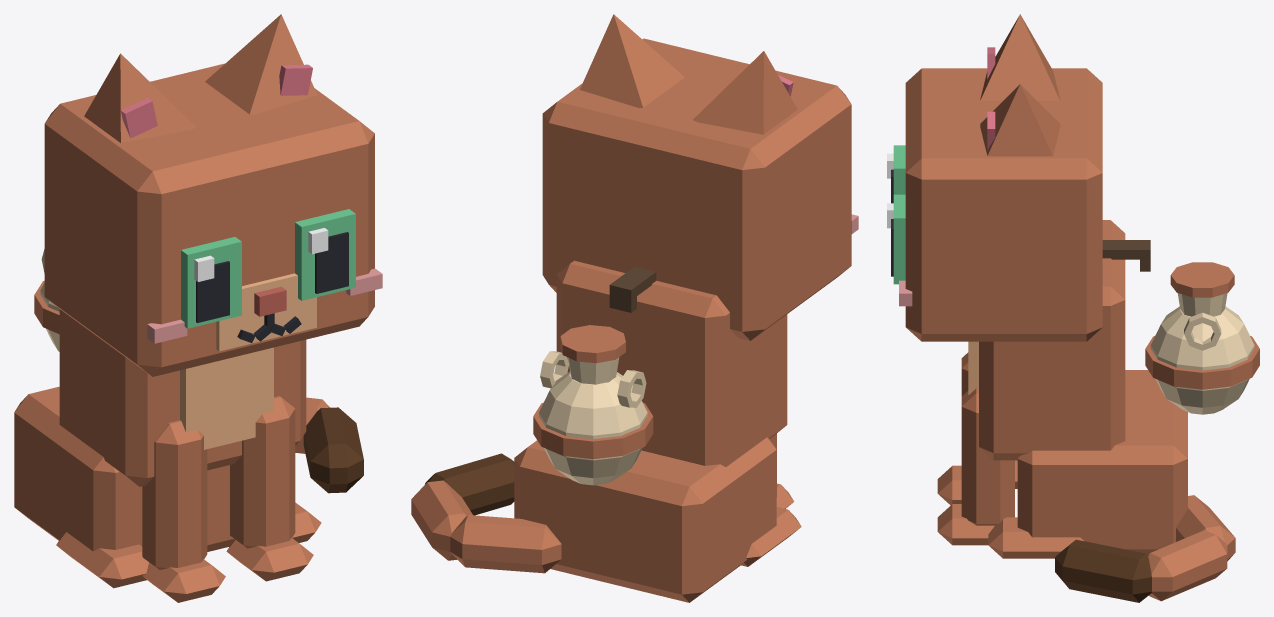
File: CatCafe_Cat_Clay_Sit.glb
3 views of the same model, side by side, from view 1: azimuth 30°, elevation 25°; view 2: azimuth 150°, elevation 25°; view 3: azimuth 270°, elevation 25° (orthographic). The views are drawn at different scales.
Visible parts, largest first — view 1: CatCafe_Cat_Clay_Sit_Head, CatCafe_Cat_Clay_Sit_Body, CatCafe_Cat_Clay_Sit_LegF2, CatCafe_Cat_Clay_Sit_LegF1, CatCafe_Cat_Clay_Sit_EarL, CatCafe_Cat_Clay_Sit_EarR, CatCafe_Cat_Clay_Sit_Eye2, CatCafe_Cat_Clay_Sit_Eye1, CatCafe_Cat_Clay_Sit_Tail, CatCafe_Cat_Clay_Sit_Prop; view 2: CatCafe_Cat_Clay_Sit_Head, CatCafe_Cat_Clay_Sit_Body, CatCafe_Cat_Clay_Sit_Prop, CatCafe_Cat_Clay_Sit_Tail, CatCafe_Cat_Clay_Sit_EarL, CatCafe_Cat_Clay_Sit_EarR; view 3: CatCafe_Cat_Clay_Sit_Head, CatCafe_Cat_Clay_Sit_Body, CatCafe_Cat_Clay_Sit_Prop, CatCafe_Cat_Clay_Sit_Tail, CatCafe_Cat_Clay_Sit_LegF1, CatCafe_Cat_Clay_Sit_EarL, CatCafe_Cat_Clay_Sit_EarR, CatCafe_Cat_Clay_Sit_Eye1, CatCafe_Cat_Clay_Sit_LegF2, CatCafe_Cat_Clay_Sit_Eye2.
Boxes of the visible parts, left/top/right/bottom form: CatCafe_Cat_Clay_Sit_Head: left=44, top=63, right=382, bottom=376; CatCafe_Cat_Clay_Sit_Body: left=14, top=309, right=321, bottom=588; CatCafe_Cat_Clay_Sit_LegF2: left=142, top=420, right=225, bottom=602; CatCafe_Cat_Clay_Sit_LegF1: left=226, top=396, right=313, bottom=581; CatCafe_Cat_Clay_Sit_EarL: left=205, top=14, right=317, bottom=114; CatCafe_Cat_Clay_Sit_EarR: left=84, top=53, right=196, bottom=142; CatCafe_Cat_Clay_Sit_Eye2: left=181, top=237, right=241, bottom=328; CatCafe_Cat_Clay_Sit_Eye1: left=295, top=209, right=355, bottom=300; CatCafe_Cat_Clay_Sit_Tail: left=295, top=397, right=363, bottom=493; CatCafe_Cat_Clay_Sit_Prop: left=34, top=249, right=59, bottom=351; CatCafe_Cat_Clay_Sit_Head: left=542, top=38, right=858, bottom=340; CatCafe_Cat_Clay_Sit_Body: left=514, top=260, right=801, bottom=602; CatCafe_Cat_Clay_Sit_Prop: left=533, top=266, right=656, bottom=485; CatCafe_Cat_Clay_Sit_Tail: left=411, top=453, right=561, bottom=573; CatCafe_Cat_Clay_Sit_EarL: left=580, top=14, right=684, bottom=107; CatCafe_Cat_Clay_Sit_EarR: left=693, top=51, right=797, bottom=134; CatCafe_Cat_Clay_Sit_Head: left=899, top=68, right=1102, bottom=341; CatCafe_Cat_Clay_Sit_Body: left=968, top=220, right=1187, bottom=558; CatCafe_Cat_Clay_Sit_Prop: left=1102, top=240, right=1259, bottom=414; CatCafe_Cat_Clay_Sit_Tail: left=1055, top=495, right=1235, bottom=602; CatCafe_Cat_Clay_Sit_LegF1: left=937, top=388, right=1014, bottom=545; CatCafe_Cat_Clay_Sit_EarL: left=980, top=84, right=1060, bottom=156; CatCafe_Cat_Clay_Sit_EarR: left=980, top=14, right=1060, bottom=100; CatCafe_Cat_Clay_Sit_Eye1: left=887, top=194, right=905, bottom=284; CatCafe_Cat_Clay_Sit_LegF2: left=937, top=352, right=968, bottom=505; CatCafe_Cat_Clay_Sit_Eye2: left=887, top=145, right=905, bottom=203.
Size of the model in its own units: 1.24 by 1.85 by 1.33.
Materials: 1 (1 with a texture image).
